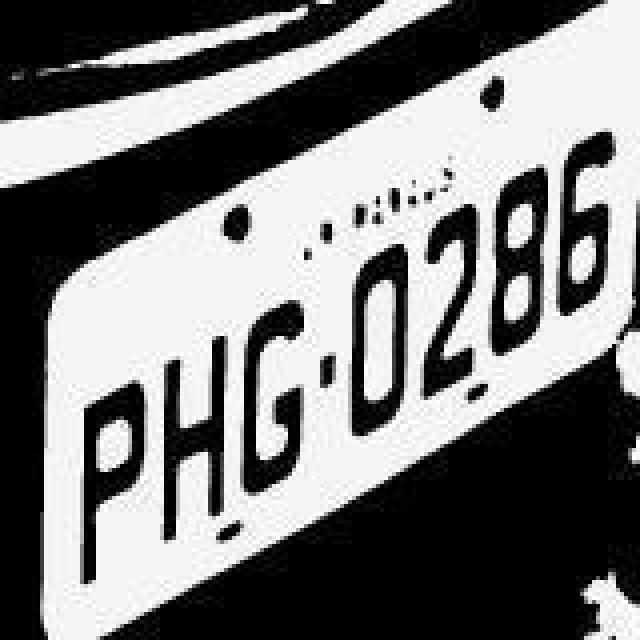2: (412, 204, 484, 404)
6: (552, 124, 624, 324)
8: (484, 164, 556, 356)
G: (238, 296, 314, 504)
H: (152, 332, 232, 548)
O: (340, 236, 412, 444)
P: (72, 370, 152, 590)
